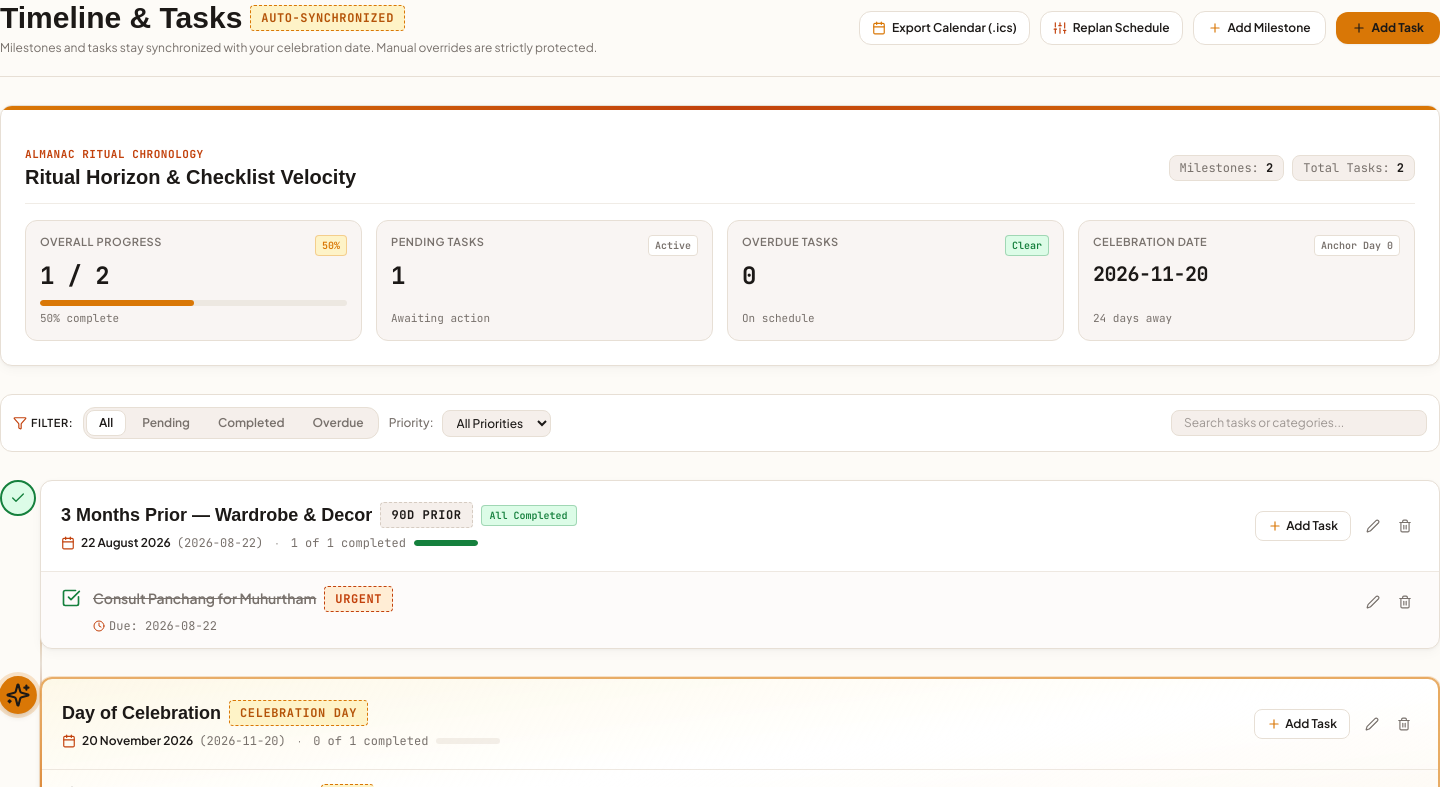
TimelineTasksTab Component › filters tasks by completion status
The image size is (1440, 787).
// Filter to only pending tasks
Click the button "pending": (166, 423) [130,411,202,435]
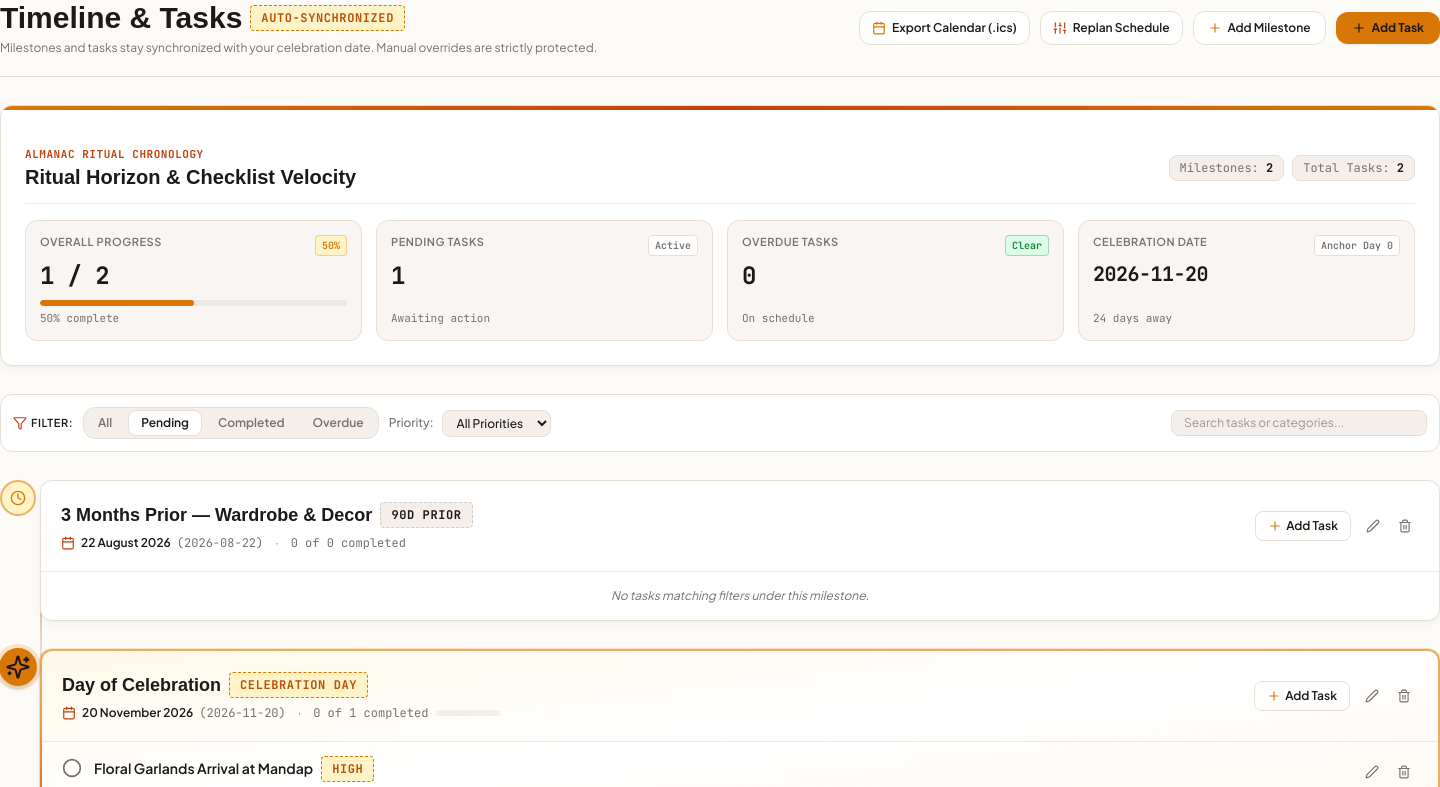
Expected: the text "Floral Garlands Arrival at Mandap" is shown, [94,760,313,778]
Expected: the text "Consult Panchang for Muhurtham" is gone
